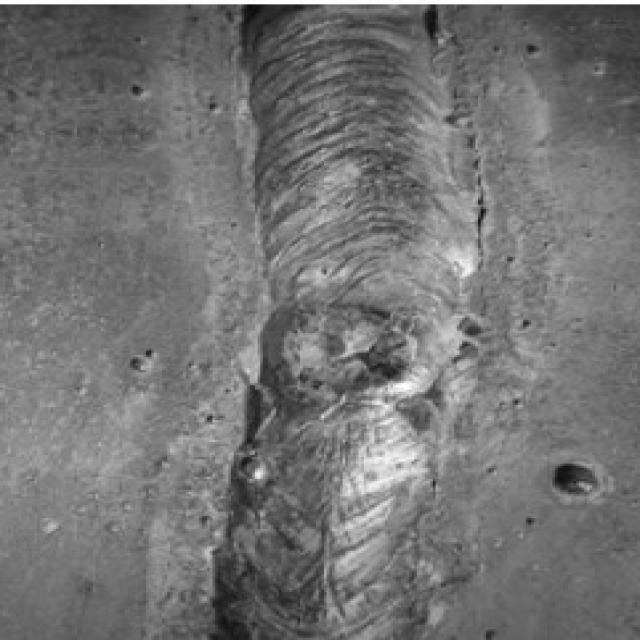Bad Welding: (194, 0, 484, 638)
Crack: (326, 338, 394, 383)
